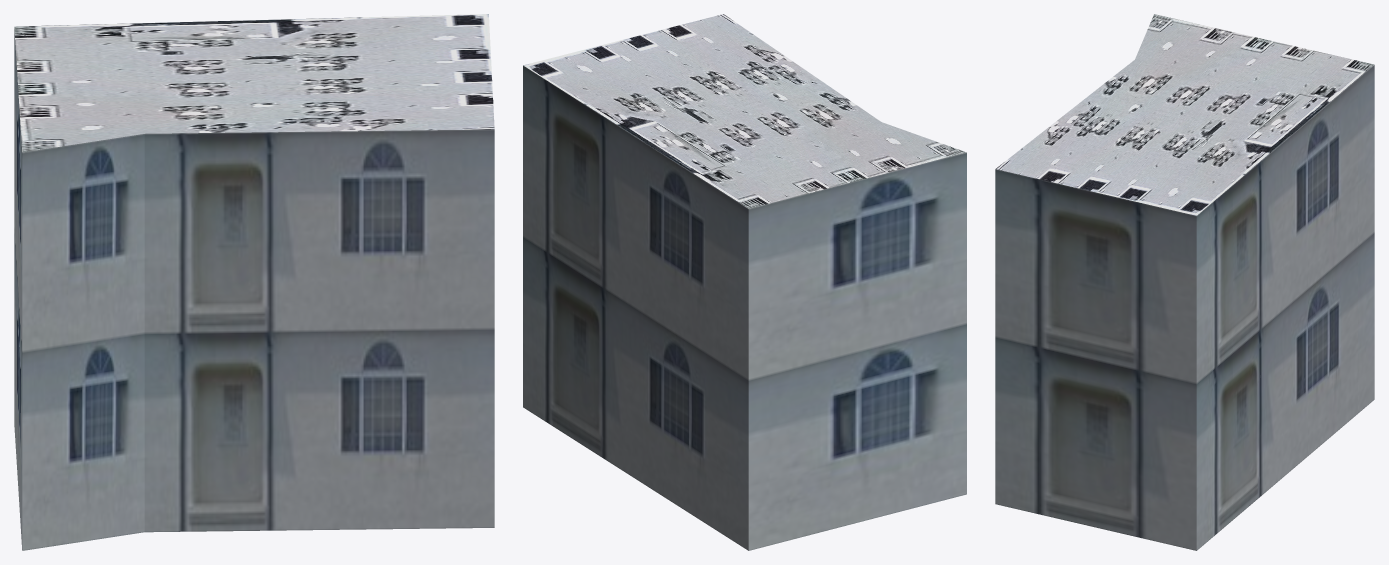
Rendered from ResTex__1199.fbx.
The picture shows the model from 3 angles, left to right: view 1: azimuth 30°, elevation 25°; view 2: azimuth 150°, elevation 25°; view 3: azimuth 270°, elevation 25°; orthographic projection. The views are drawn at different scales.
Parts seen in each view (by area): view 1: CityEngineMaterial_17_m, CityEngineMaterial_4_m; view 2: CityEngineMaterial_17_m, CityEngineMaterial_4_m; view 3: CityEngineMaterial_17_m, CityEngineMaterial_4_m.
Boxes of the visible parts, left/top/right/bottom form: CityEngineMaterial_17_m: left=14, top=29, right=494, bottom=550; CityEngineMaterial_4_m: left=14, top=14, right=494, bottom=152; CityEngineMaterial_17_m: left=523, top=65, right=966, bottom=550; CityEngineMaterial_4_m: left=523, top=14, right=966, bottom=208; CityEngineMaterial_17_m: left=995, top=65, right=1374, bottom=550; CityEngineMaterial_4_m: left=995, top=14, right=1374, bottom=215.
Size of the model in its own units: 7.75 by 6 by 6.16.
2 materials, 2 textured.
